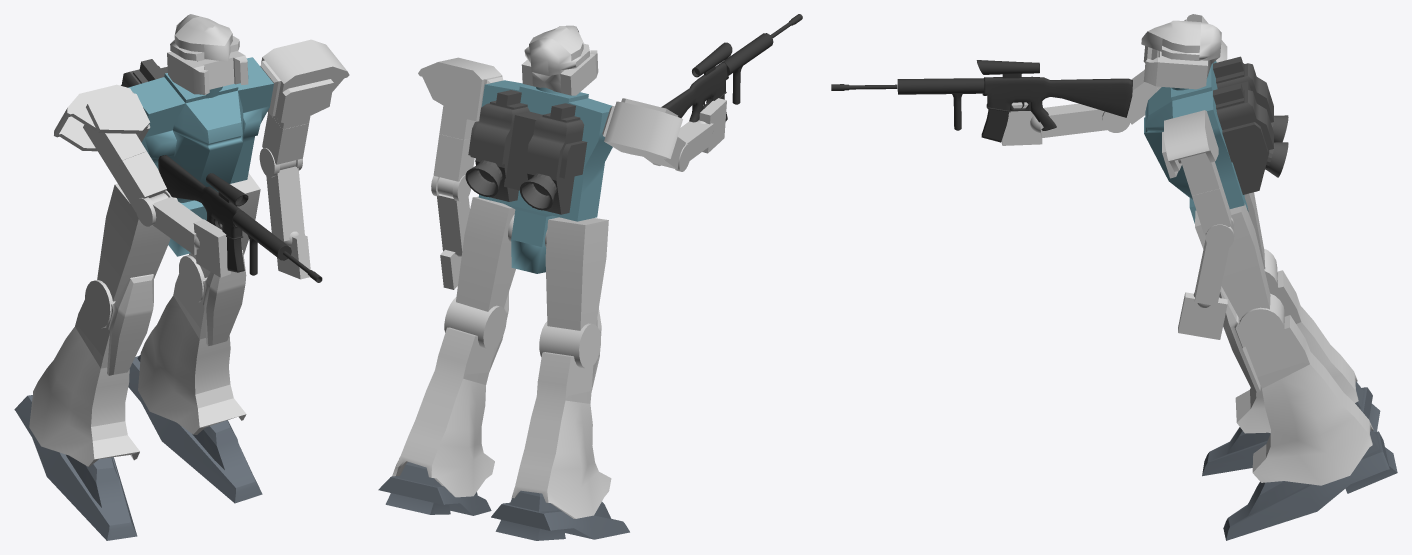
File: RoboModel0.1.fbx
3 renders of one model, left to right at view 1: azimuth 30°, elevation 25°; view 2: azimuth 150°, elevation 25°; view 3: azimuth 270°, elevation 25°, orthographic. The views are drawn at different scales.
Parts seen in each view (by area): view 1: RoboTestModel_0001:leg (×2), RoboTestModel_0001:body, RoboTestModel_0001:foot (×2), RoboTestModel_0001:knee (×2), RoboTestModel_0001:shoulderL, RoboTestModel_0001:head, RoboTestModel_0001:thighR, RoboTestModel_0001:shoulderR, RoboTestModel_0001:arm2 (×2), RoboTestModel_0001:arm1B (×2), RoboTestModel_0001:RoboTest:AssaultRifle:RifleBody, RoboTestModel_0001:hand (×2) (+8 smaller); view 2: RoboTestModel_0001:leg (×2), RoboTestModel_0001:body, RoboTestModel_0001:thighR, RoboTestModel_0001:foot (×2), RoboTestModel_0001:thighL, RoboTestModel_0001:ban1, RoboTestModel_0001:head, RoboTestModel_0001:kneeJoint (×2), RoboTestModel_0001:shoulderR, RoboTestModel_0001:ban, RoboTestModel_0001:shoulderL, RoboTestModel_0001:arm2 (×2) (+9 smaller); view 3: RoboTestModel_0001:leg (×2), RoboTestModel_0001:foot (×2), RoboTestModel_0001:head, RoboTestModel_0001:RoboTest:AssaultRifle:RifleBody, RoboTestModel_0001:body, RoboTestModel_0001:ban, RoboTestModel_0001:thighL, RoboTestModel_0001:arm2 (×2), RoboTestModel_0001:hand (×2), RoboTestModel_0001:shoulderL, RoboTestModel_0001:RoboTest:AssaultRifle:RifleAddons, RoboTestModel_0001:arm1B (×2) (+5 smaller).
Boxes of the visible parts, box(x1,y1,x2,y2) form: RoboTestModel_0001:leg (×2): box(29, 273, 246, 466); RoboTestModel_0001:body: box(128, 57, 273, 256); RoboTestModel_0001:foot (×2): box(14, 355, 262, 540); RoboTestModel_0001:knee (×2): box(106, 250, 246, 375); RoboTestModel_0001:shoulderL: box(260, 39, 349, 125); RoboTestModel_0001:head: box(167, 14, 248, 94); RoboTestModel_0001:thighR: box(97, 183, 170, 301); RoboTestModel_0001:shoulderR: box(54, 84, 150, 151); RoboTestModel_0001:arm2 (×2): box(153, 166, 304, 255); RoboTestModel_0001:arm1B (×2): box(113, 113, 308, 211); RoboTestModel_0001:RoboTest:AssaultRifle:RifleBody: box(158, 155, 242, 239); RoboTestModel_0001:hand (×2): box(193, 219, 310, 279); RoboTestModel_0001:leg (×2): box(392, 327, 611, 518); RoboTestModel_0001:body: box(478, 80, 612, 273); RoboTestModel_0001:thighR: box(545, 217, 608, 330); RoboTestModel_0001:foot (×2): box(378, 462, 629, 539); RoboTestModel_0001:thighL: box(456, 196, 515, 311); RoboTestModel_0001:ban1: box(525, 103, 587, 214); RoboTestModel_0001:head: box(521, 25, 598, 95); RoboTestModel_0001:kneeJoint (×2): box(444, 297, 600, 368); RoboTestModel_0001:shoulderR: box(602, 98, 682, 160); RoboTestModel_0001:ban: box(468, 90, 529, 201); RoboTestModel_0001:shoulderL: box(418, 57, 503, 121); RoboTestModel_0001:arm2 (×2): box(437, 121, 713, 255); RoboTestModel_0001:leg (×2): box(1235, 270, 1373, 485); RoboTestModel_0001:foot (×2): box(1202, 381, 1389, 540); RoboTestModel_0001:head: box(1141, 20, 1221, 89); RoboTestModel_0001:RoboTest:AssaultRifle:RifleBody: box(982, 76, 1132, 130); RoboTestModel_0001:body: box(1144, 61, 1248, 223); RoboTestModel_0001:ban: box(1213, 83, 1273, 194); RoboTestModel_0001:thighL: box(1195, 203, 1270, 320); RoboTestModel_0001:arm2 (×2): box(1040, 103, 1228, 305); RoboTestModel_0001:hand (×2): box(1001, 102, 1227, 339); RoboTestModel_0001:shoulderL: box(1162, 110, 1218, 178); RoboTestModel_0001:RoboTest:AssaultRifle:RifleAddons: box(831, 60, 1039, 142); RoboTestModel_0001:arm1B (×2): box(1128, 70, 1231, 233).
Bounding box in the file's own units: 103 × 185 × 197.
